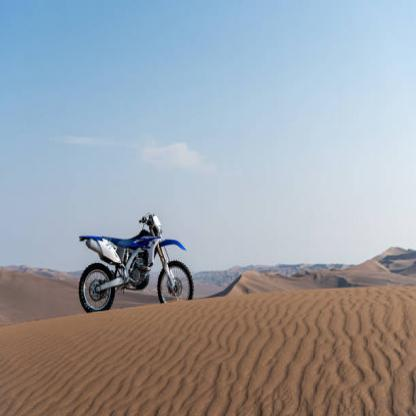Motorcycle: (71, 211, 198, 313)
